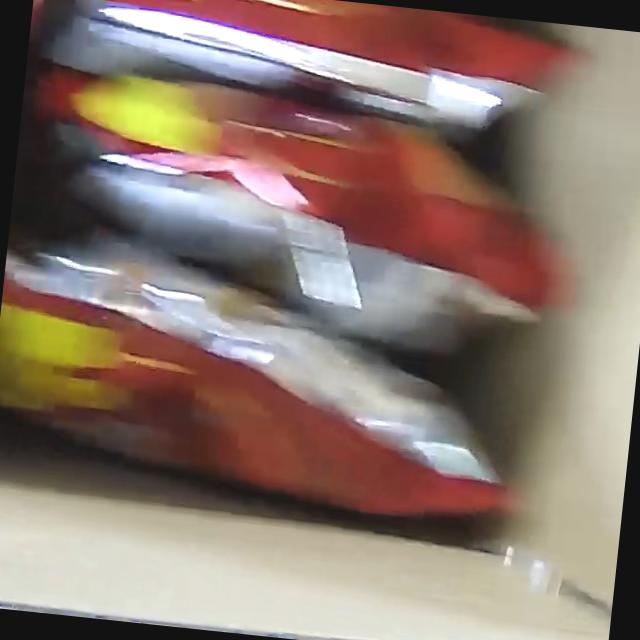masala: (0, 0, 602, 549)
